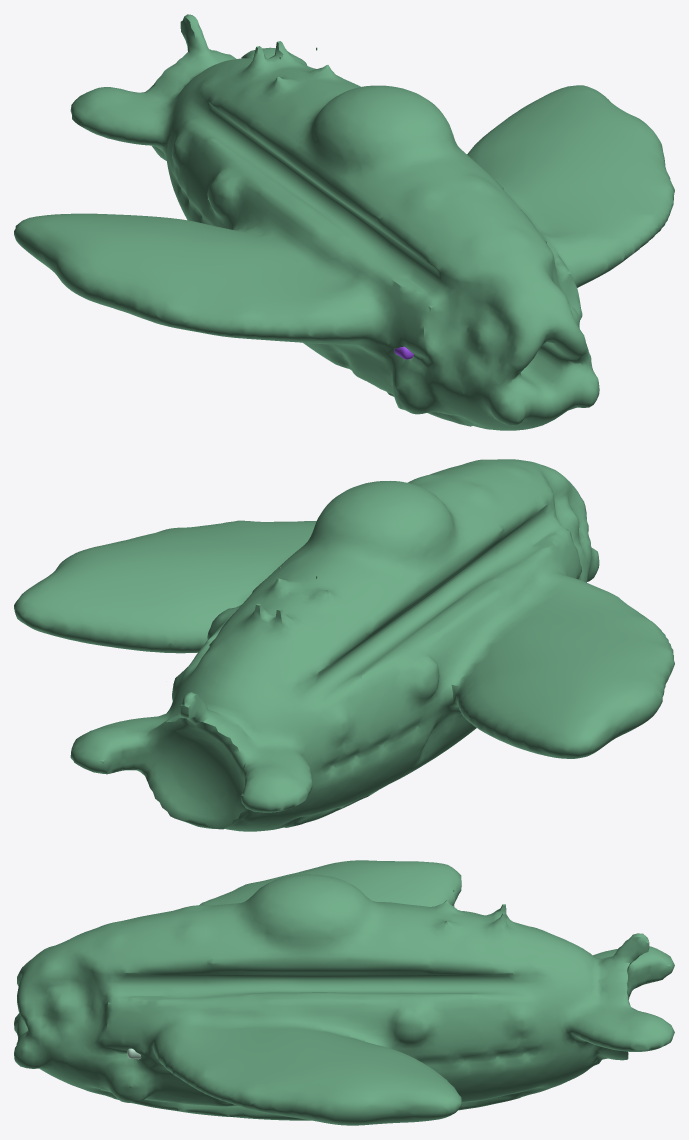
3 renders of one model, top to bottom at view 1: azimuth 30°, elevation 25°; view 2: azimuth 150°, elevation 25°; view 3: azimuth 270°, elevation 25°, orthographic. The views are drawn at different scales.
Parts seen in each view (by area): view 1: Object_4.019; view 2: Object_4.019; view 3: Object_4.019.
Boxes of the visible parts, bbox=[...] form: Object_4.019: bbox=[14, 14, 674, 430]; Object_4.019: bbox=[14, 459, 674, 831]; Object_4.019: bbox=[14, 860, 674, 1125].
Size of the model in its own units: 0.8782 by 0.3768 by 1.
